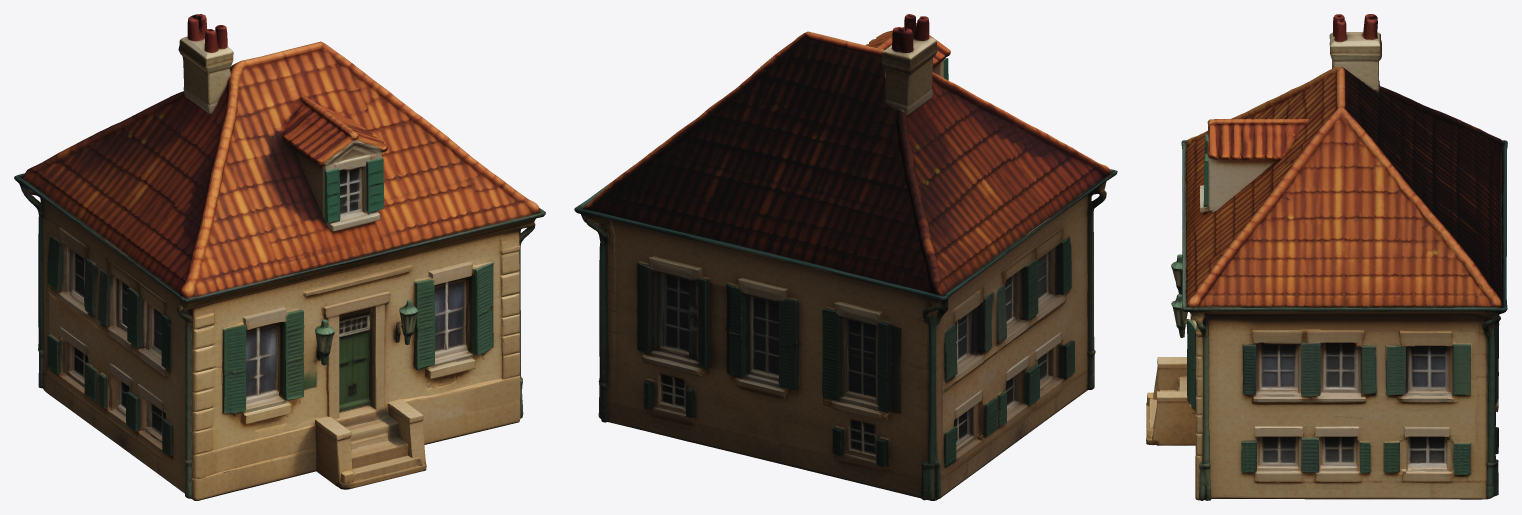
The model's file is r3_templer_house_b.glb.
The picture shows the model from 3 angles, left to right: view 1: azimuth 30°, elevation 25°; view 2: azimuth 150°, elevation 25°; view 3: azimuth 270°, elevation 25°; orthographic projection. The views are drawn at different scales.
Visible parts, largest first — view 1: world; view 2: world; view 3: world.
Boxes of the visible parts, bbox=[...] form: world: bbox=[14, 14, 545, 500]; world: bbox=[574, 14, 1117, 500]; world: bbox=[1146, 14, 1507, 500].
Size of the model in its own units: 0.9644 by 1 by 0.8721.
1 material, 1 textured.
